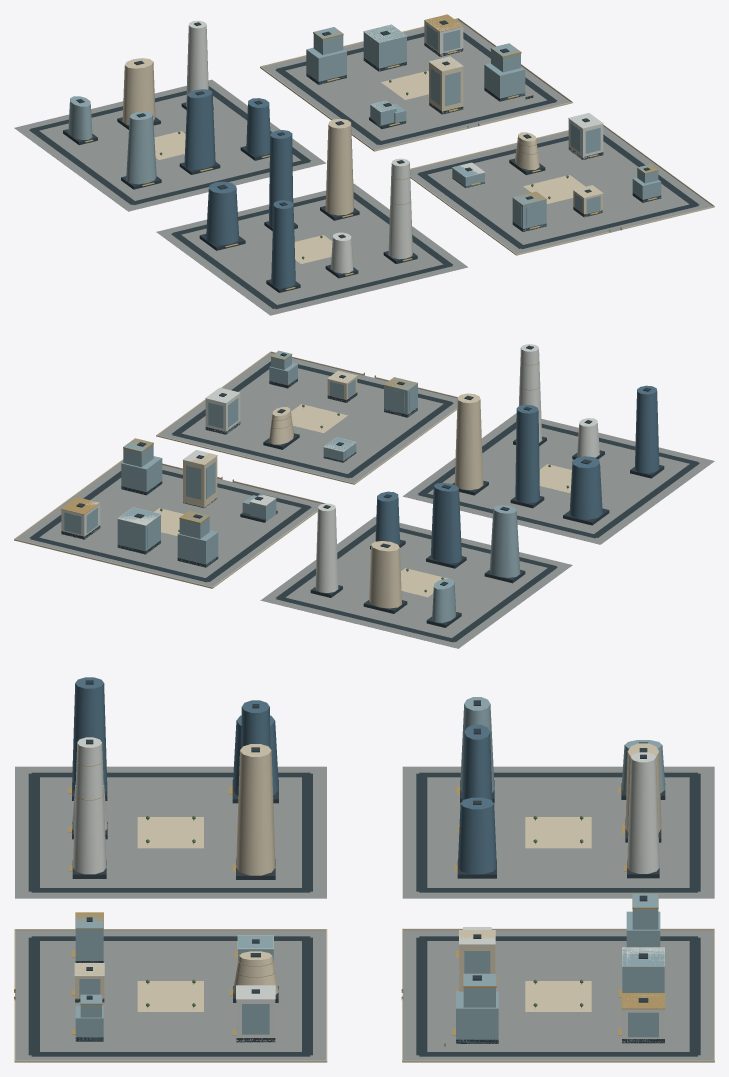
Rendered from GC-TILE-14-10.glb.
3 renders of one model, top to bottom at view 1: azimuth 30°, elevation 25°; view 2: azimuth 150°, elevation 25°; view 3: azimuth 270°, elevation 25°, orthographic. The views are drawn at different scales.
Parts seen in each view (by area): view 1: GC-TILE-14-10-paving, GC-TILE-14-10-dark, GC-TILE-14-10-glass, GC-TILE-14-10-ivory, GC-TILE-14-10-blue, GC-TILE-14-10-white, GC-TILE-14-10-gold; view 2: GC-TILE-14-10-paving, GC-TILE-14-10-dark, GC-TILE-14-10-glass, GC-TILE-14-10-ivory, GC-TILE-14-10-blue, GC-TILE-14-10-white, GC-TILE-14-10-gold; view 3: GC-TILE-14-10-paving, GC-TILE-14-10-dark, GC-TILE-14-10-ivory, GC-TILE-14-10-glass, GC-TILE-14-10-white, GC-TILE-14-10-blue, GC-TILE-14-10-gold.
Part boxes in pixels (<box>): GC-TILE-14-10-paving: <box>14,20,712,315</box>; GC-TILE-14-10-dark: <box>29,20,699,309</box>; GC-TILE-14-10-glass: <box>68,24,661,231</box>; GC-TILE-14-10-ivory: <box>122,18,714,263</box>; GC-TILE-14-10-blue: <box>184,89,295,287</box>; GC-TILE-14-10-white: <box>186,17,603,273</box>; GC-TILE-14-10-gold: <box>85,14,658,289</box>; GC-TILE-14-10-paving: <box>16,353,714,648</box>; GC-TILE-14-10-dark: <box>29,345,699,642</box>; GC-TILE-14-10-glass: <box>64,351,520,622</box>; GC-TILE-14-10-ivory: <box>14,351,571,608</box>; GC-TILE-14-10-blue: <box>375,385,659,563</box>; GC-TILE-14-10-white: <box>61,344,599,592</box>; GC-TILE-14-10-gold: <box>61,350,600,611</box>; GC-TILE-14-10-paving: <box>15,766,714,1060</box>; GC-TILE-14-10-dark: <box>28,680,700,1056</box>; GC-TILE-14-10-ivory: <box>14,743,714,1062</box>; GC-TILE-14-10-glass: <box>75,697,665,1043</box>; GC-TILE-14-10-white: <box>72,737,664,1043</box>; GC-TILE-14-10-blue: <box>72,677,496,874</box>; GC-TILE-14-10-gold: <box>14,760,665,1042</box>.
Bounding box in the file's own units: 758 × 156 × 760.
